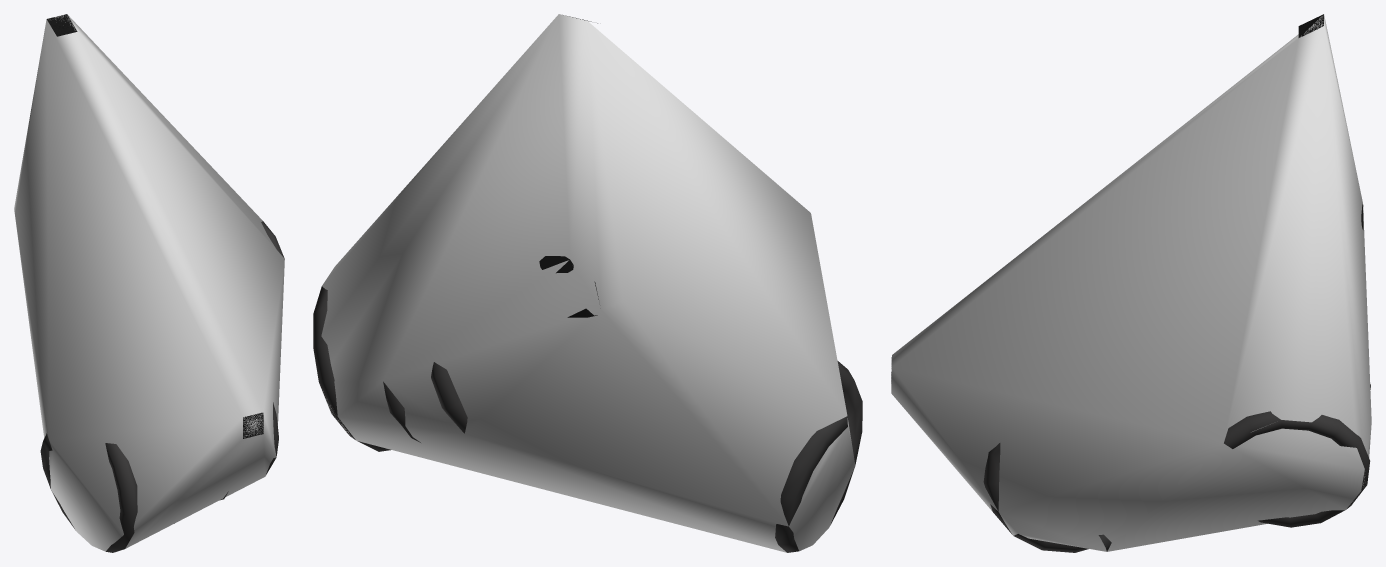
The picture shows the model from 3 angles, left to right: view 1: azimuth 30°, elevation 25°; view 2: azimuth 150°, elevation 25°; view 3: azimuth 270°, elevation 25°; orthographic projection. The views are drawn at different scales.
Visible parts, largest first — view 1: grille_stampede_tail_l_1_01_col, grille_stampede_tail_l_1_01; view 2: grille_stampede_tail_l_1_01_col, grille_stampede_tail_l_1_01; view 3: grille_stampede_tail_l_1_01_col, grille_stampede_tail_l_1_01.
Part boxes in pixels (bbox=[...]): grille_stampede_tail_l_1_01_col: bbox=[14, 14, 284, 551]; grille_stampede_tail_l_1_01: bbox=[40, 14, 284, 552]; grille_stampede_tail_l_1_01_col: bbox=[321, 14, 855, 552]; grille_stampede_tail_l_1_01: bbox=[313, 16, 862, 552]; grille_stampede_tail_l_1_01_col: bbox=[891, 14, 1371, 551]; grille_stampede_tail_l_1_01: bbox=[891, 14, 1370, 552].
Size of the model in its own units: 0.2612 by 0.3774 by 0.3083.
3 materials, 3 textured.
